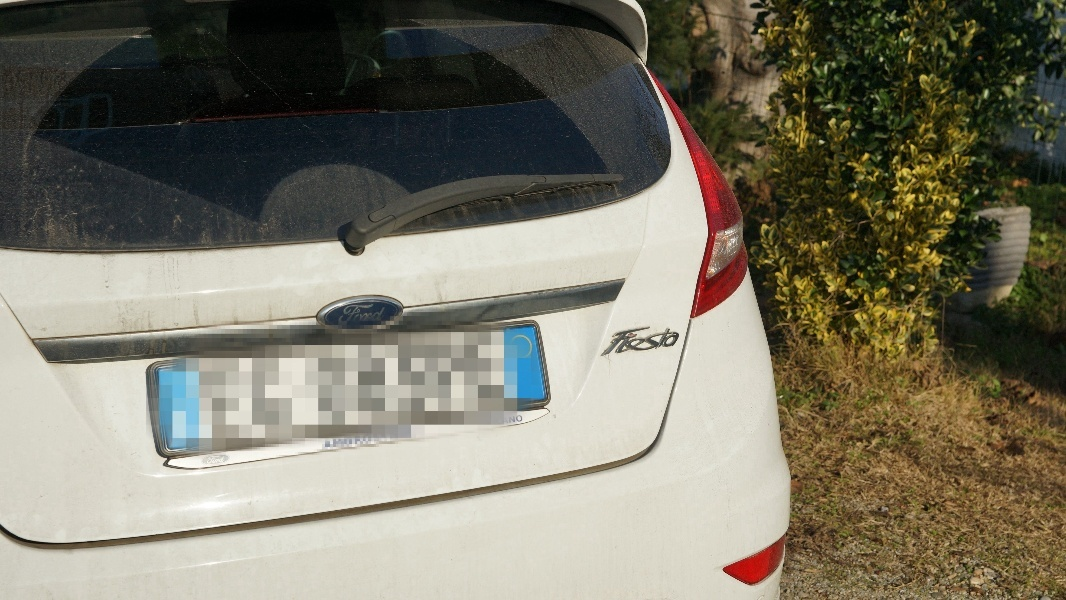text: (625, 322, 640, 357), (641, 322, 656, 357), (657, 322, 672, 357), (673, 322, 685, 357), (615, 322, 624, 357), (353, 305, 368, 325), (369, 305, 384, 325), (346, 305, 352, 325), (385, 305, 389, 325)
